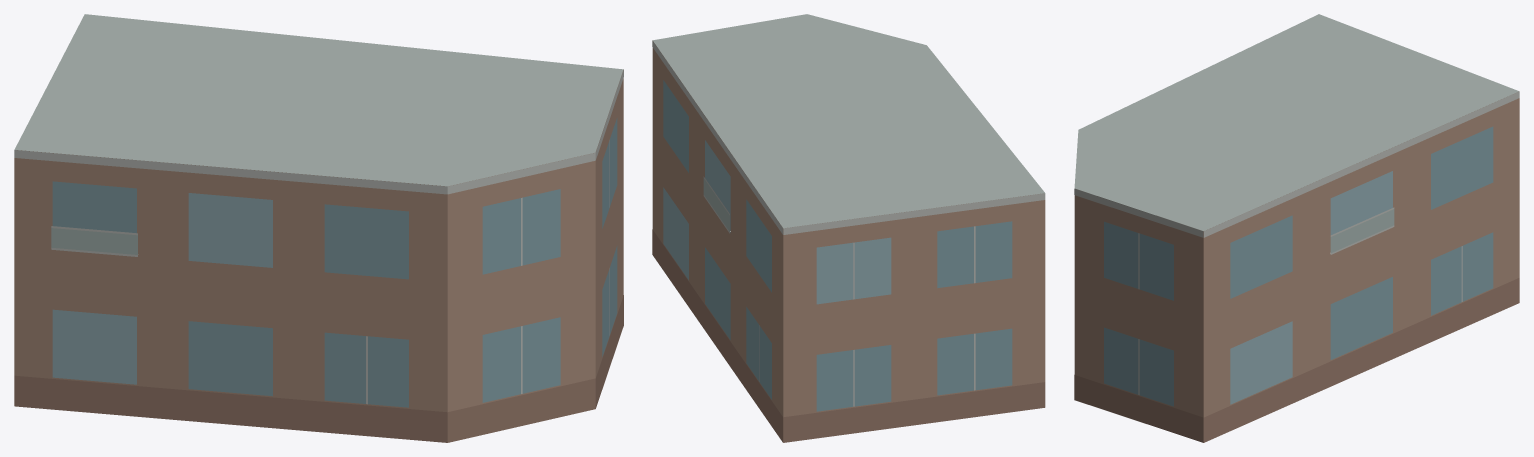
File: survey-upis-32626930.glb
3 views of the same model, side by side, from view 1: azimuth 30°, elevation 25°; view 2: azimuth 150°, elevation 25°; view 3: azimuth 270°, elevation 25° (orthographic). The views are drawn at different scales.
Visible parts, largest first — view 1: survey-upis-32626930.tmp; view 2: survey-upis-32626930.tmp; view 3: survey-upis-32626930.tmp.
Part boxes in pixels (left/top/right/bottom): survey-upis-32626930.tmp: left=14, top=14, right=623, bottom=442; survey-upis-32626930.tmp: left=652, top=14, right=1045, bottom=442; survey-upis-32626930.tmp: left=1074, top=14, right=1519, bottom=442.
Size of the model in its own units: 16.96 by 7.7 by 14.68.
